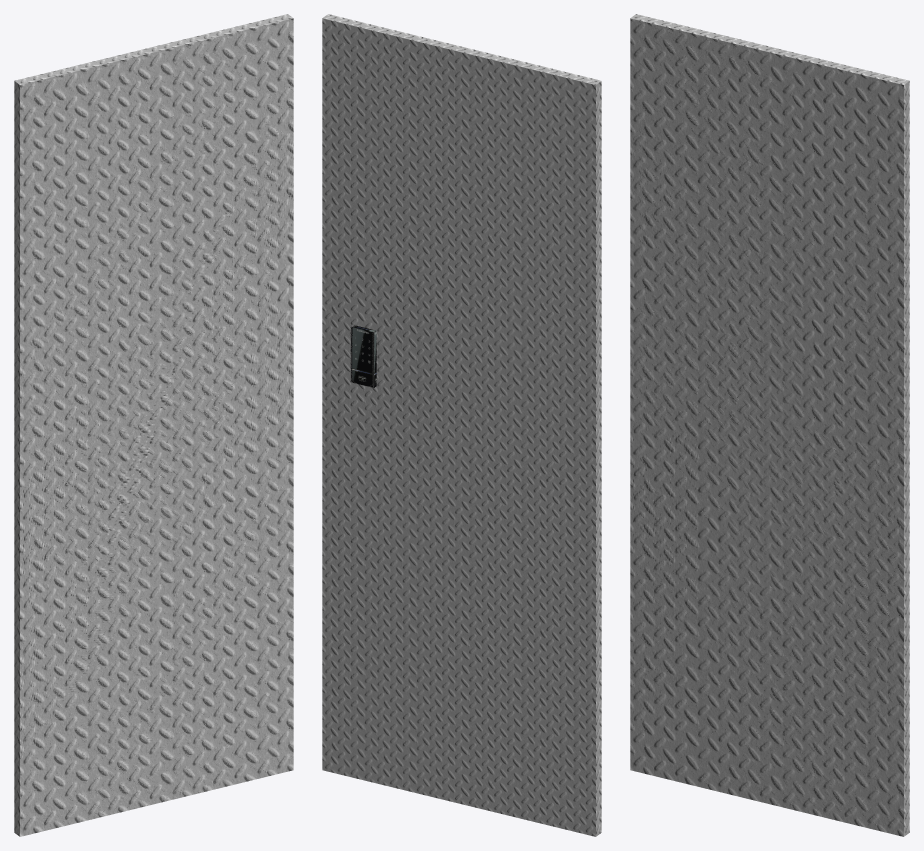
File: PortasCelas.dae
3 views of the same model, side by side, from view 1: azimuth 30°, elevation 25°; view 2: azimuth 150°, elevation 25°; view 3: azimuth 330°, elevation 25° (orthographic).
Visible parts, largest first — view 1: instance_1; view 2: instance_1, instance_2; view 3: instance_1.
Part boxes in pixels (<box>): instance_1: <box>14,14,293,836</box>; instance_1: <box>322,14,601,836</box>; instance_2: <box>350,325,376,387</box>; instance_1: <box>630,14,909,836</box>.
Bounding box in the file's own units: 31.5 × 1.67 × 82.68.
Materials: 3 (3 with a texture image).
